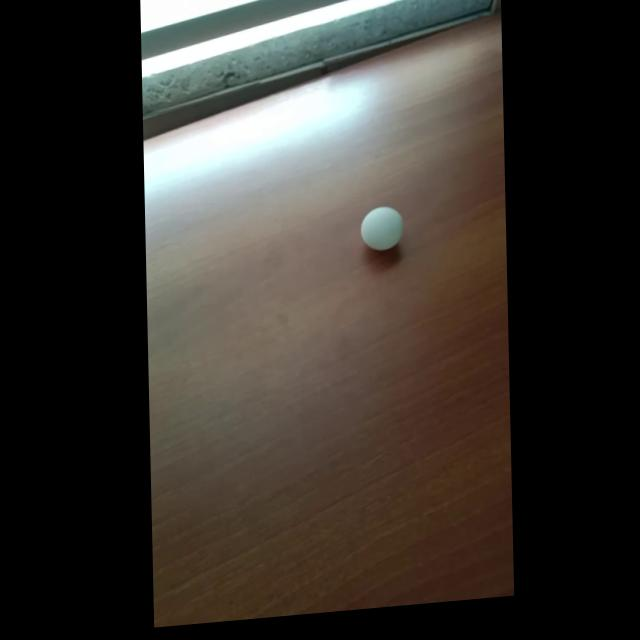white ball: (360, 204, 404, 253)
